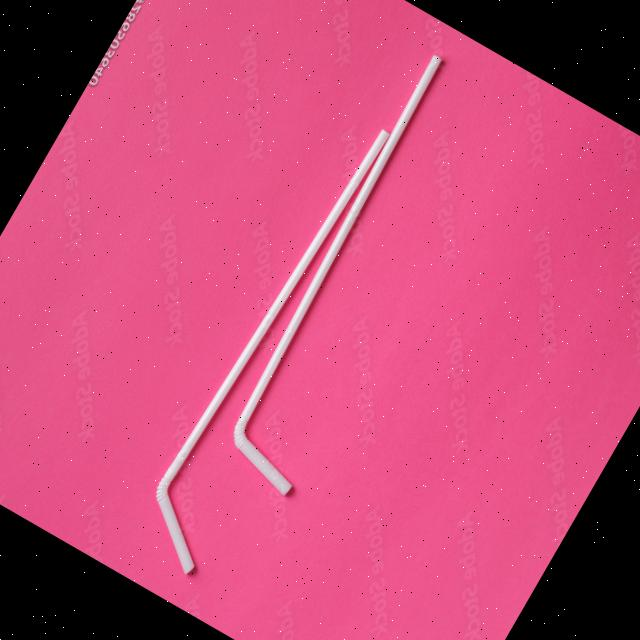plastic: (175, 41, 529, 550)
